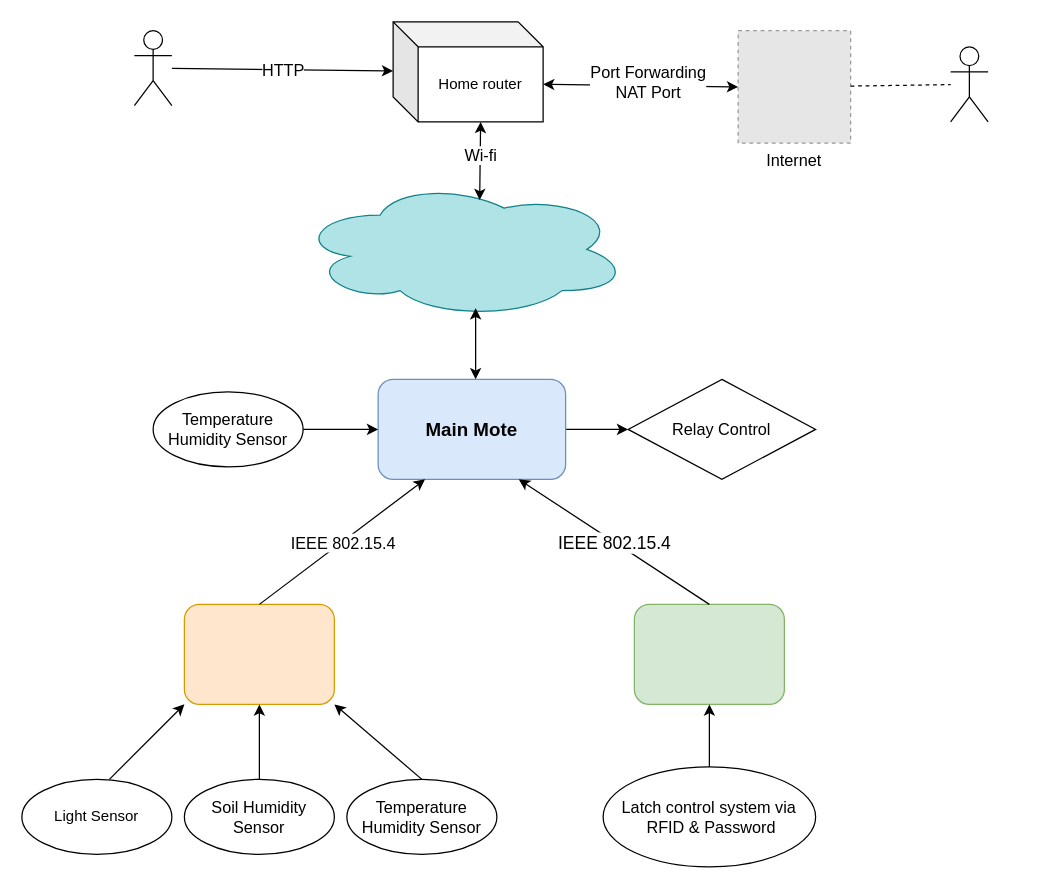
This 1053x889 diagram has some shape labels left out. Grey dashed boxes stand in for pictures. The shapes that lost their labels are listed below. From the top down, each one's centre as x and y in pixels, then its label:
At (x=152, y=67): "Local web client".
At (x=968, y=84): "Global web client".
At (x=462, y=248): "ESP32 Web server".
At (x=258, y=653): "Outdoor Mote".
At (x=708, y=653): "Smart-Lock Mote".
